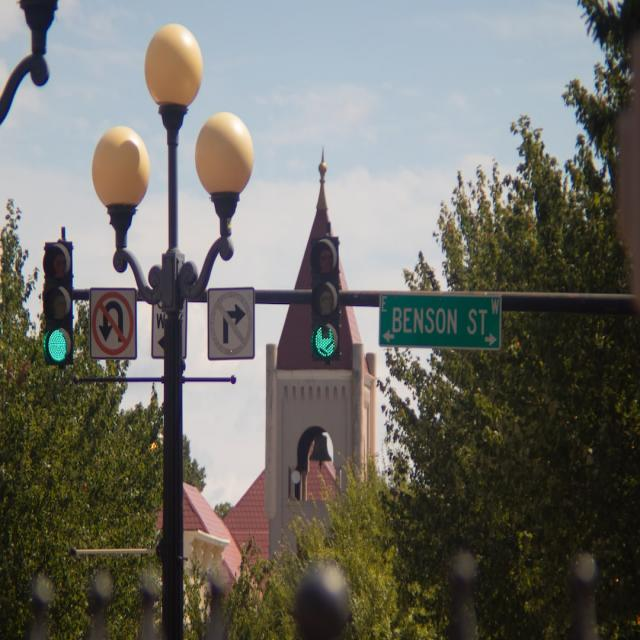no u turn: (90, 289, 137, 356)
